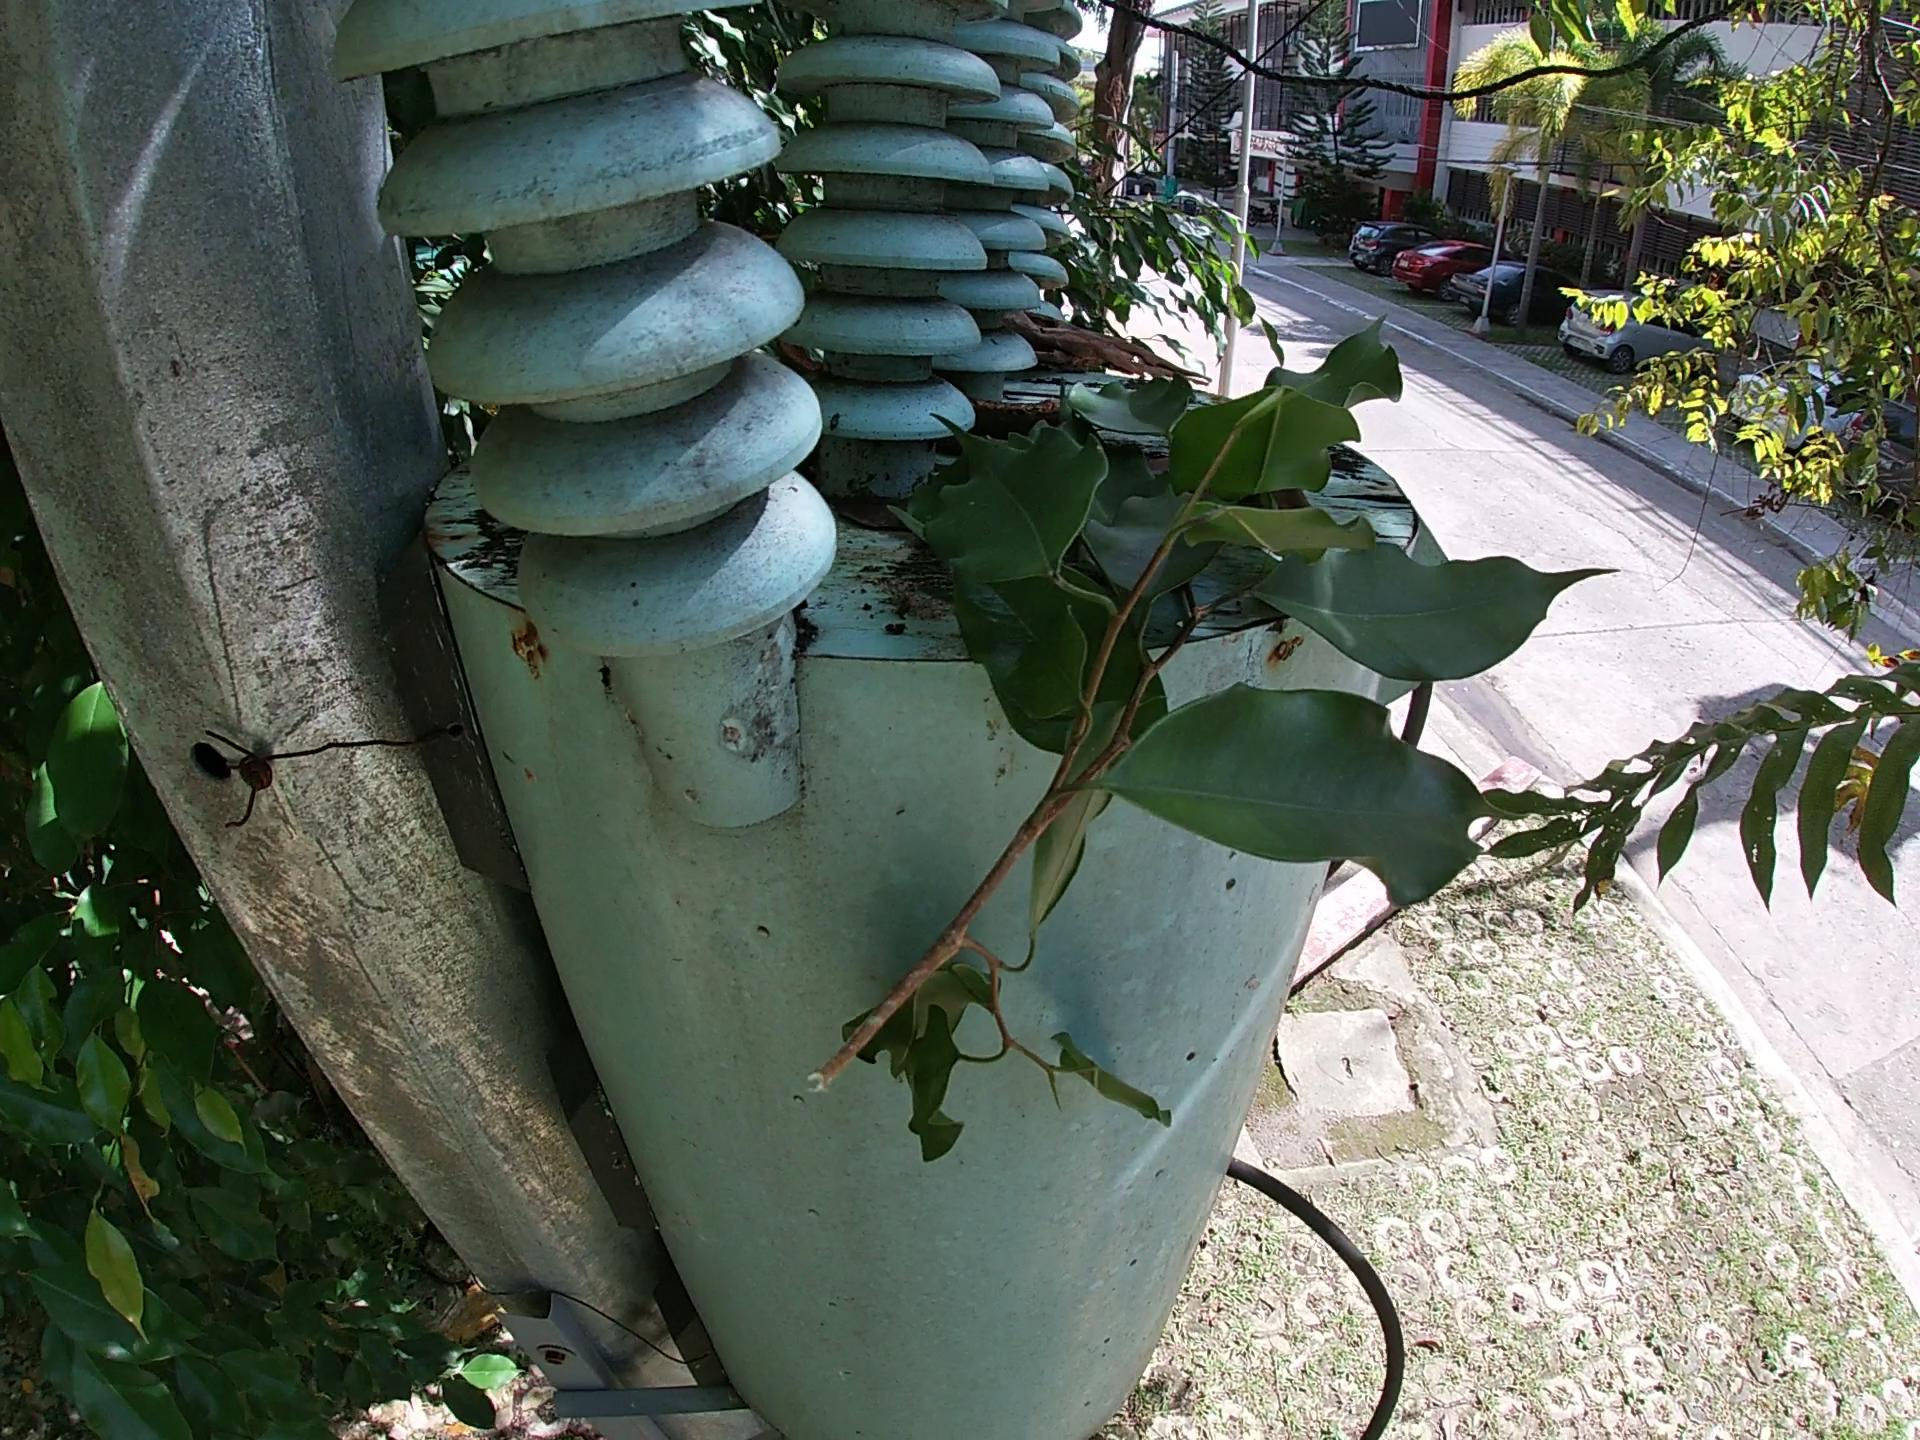branch with leaves: (791, 303, 1628, 1168)
mahogany fruit: (968, 393, 1061, 440)
tree branch: (1005, 309, 1214, 390)
